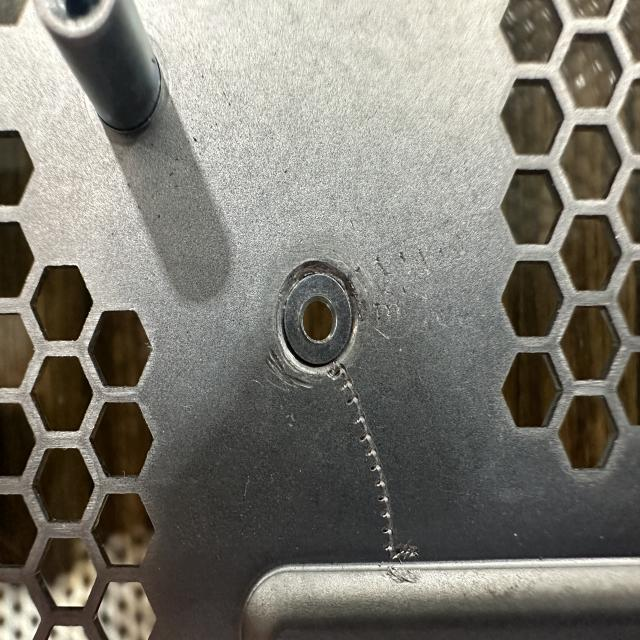Missing screw: (264, 240, 372, 388)
